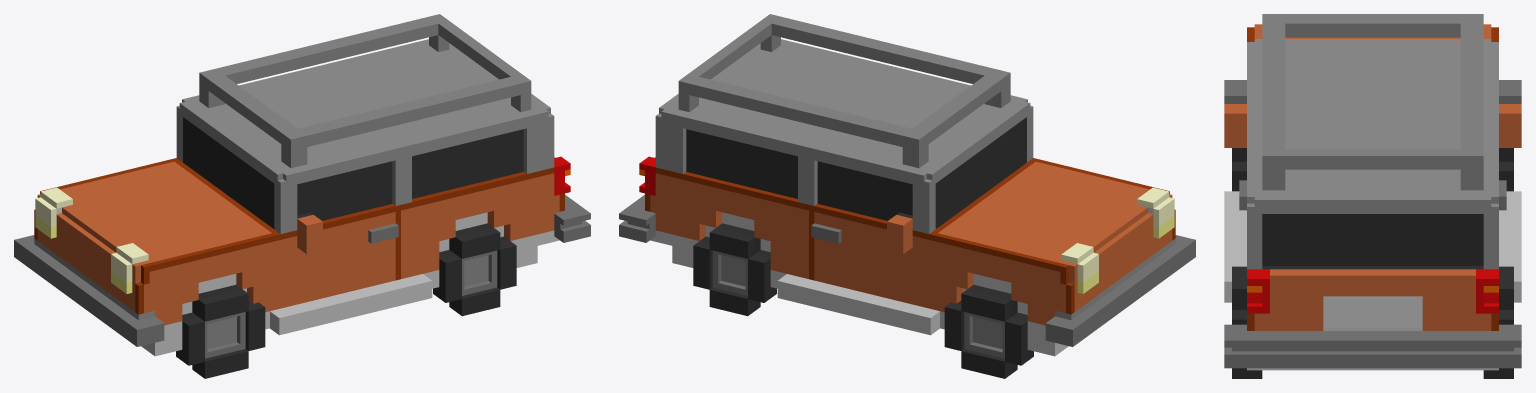
Rendered from car-3.obj.
3 renders of one model, left to right at view 1: azimuth 30°, elevation 25°; view 2: azimuth 150°, elevation 25°; view 3: azimuth 270°, elevation 25°, orthographic. The views are drawn at different scales.
Size of the model in its own units: 8.3 by 3.6 by 3.9.
1 material, 1 textured.
